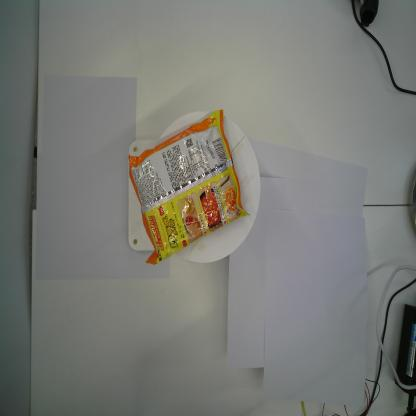Instant Noodles: (128, 108, 251, 265)
